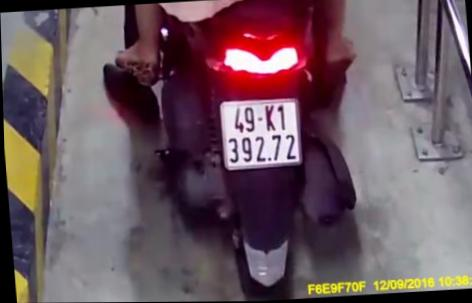LP: (217, 95, 304, 172)
